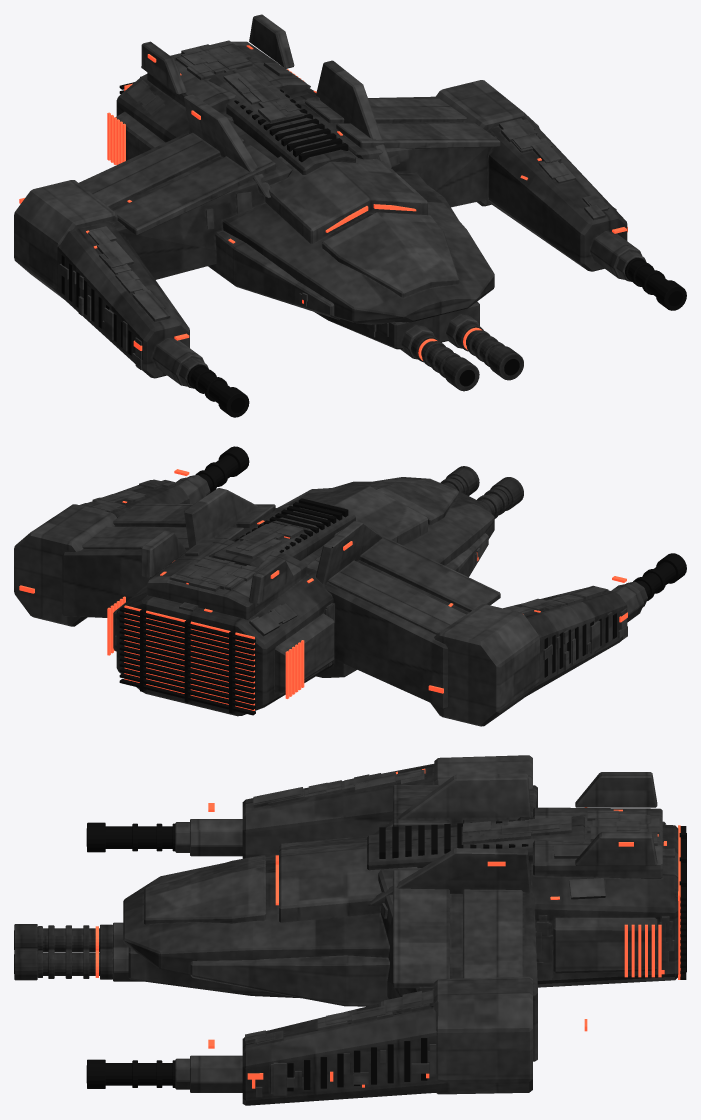
Rendered from nave_pesada.glb.
The picture shows the model from 3 angles, top to bottom: view 1: azimuth 30°, elevation 25°; view 2: azimuth 150°, elevation 25°; view 3: azimuth 270°, elevation 25°; orthographic projection. The views are drawn at different scales.
Visible parts, largest first — view 1: NavePesada; view 2: NavePesada; view 3: NavePesada.
Part boxes in pixels (x1=…): NavePesada: x1=14, y1=14, x2=686, y2=417; NavePesada: x1=14, y1=446, x2=686, y2=726; NavePesada: x1=14, y1=755, x2=686, y2=1105.
Bounding box in the file's own units: 12.04 × 3.77 × 12.98.
Materials: 1 (1 with a texture image).
